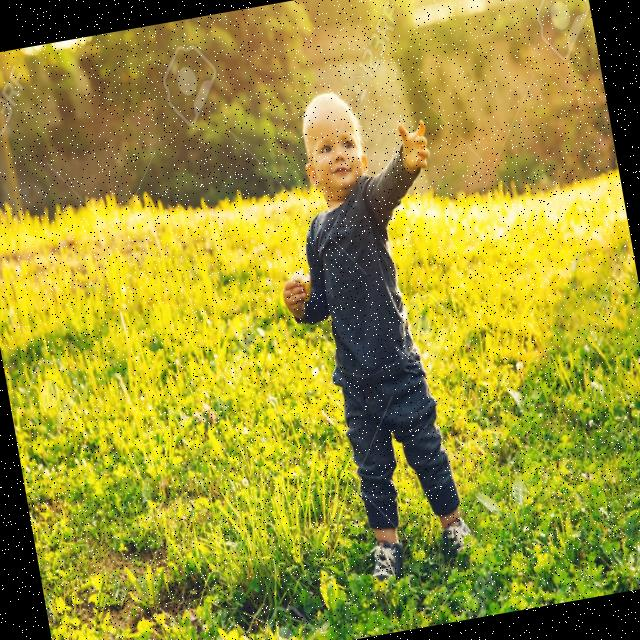Person: (247, 73, 503, 589)
